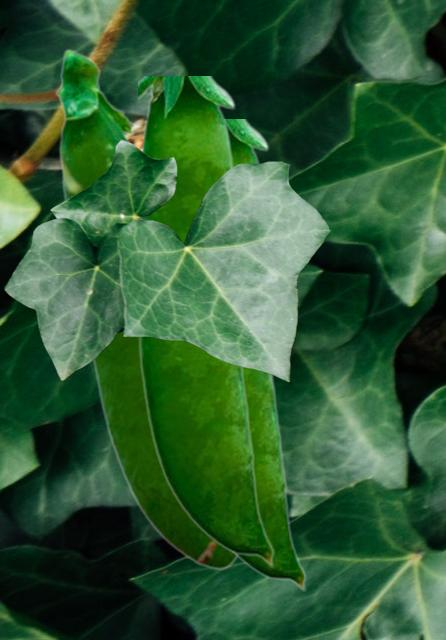pea: (55, 47, 237, 569), (138, 76, 273, 566), (226, 119, 305, 590)
